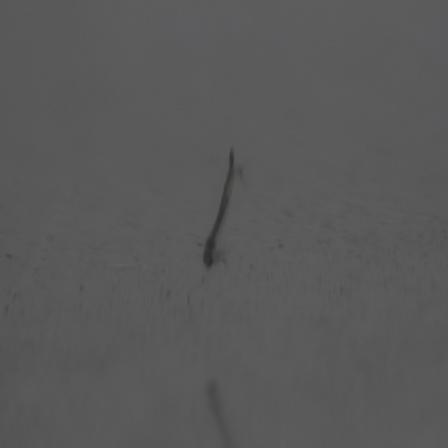Jentik-Nyamuk: (197, 142, 244, 273)
